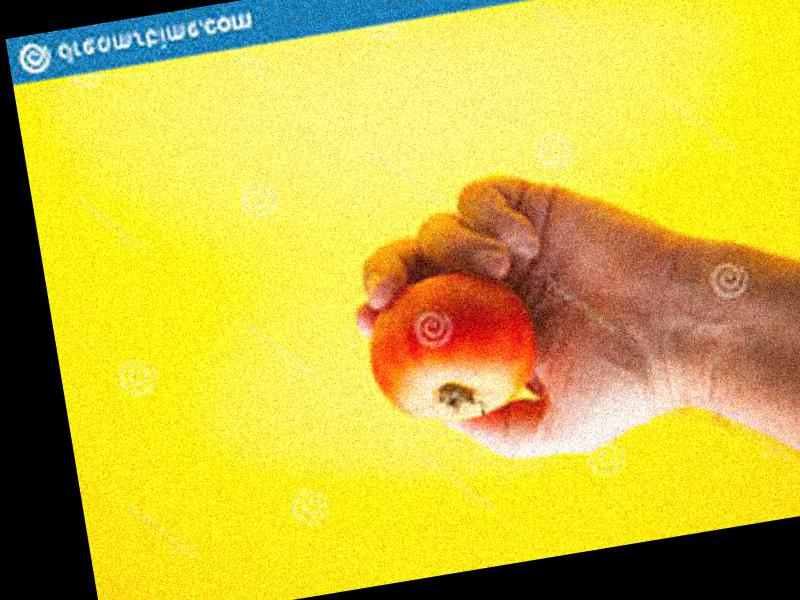Tomato: (360, 262, 545, 431)
